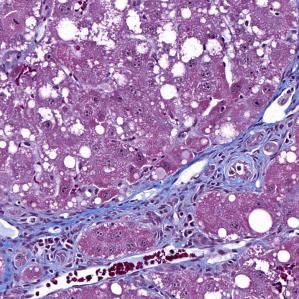fibrosis: (144, 143, 266, 250), (0, 204, 96, 282)
